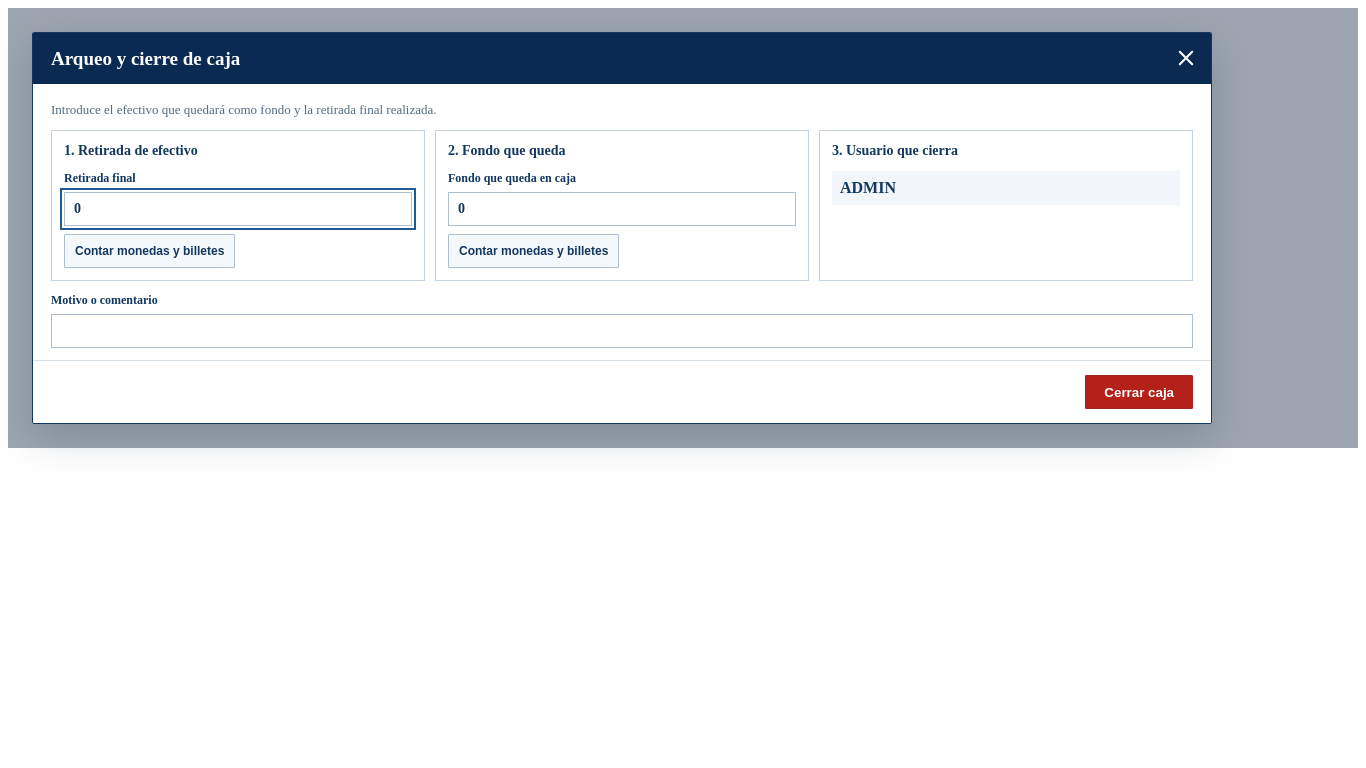
Test: cash counts connected to opening and closing › blocks positive amounts without mandatory breakdown and clears a stale count after typing
This screenshot has width=1366, height=768.
Replace the text in the field labelled "Fondo que queda en caja" with "10" at [622, 209], box [448, 192, 796, 226]
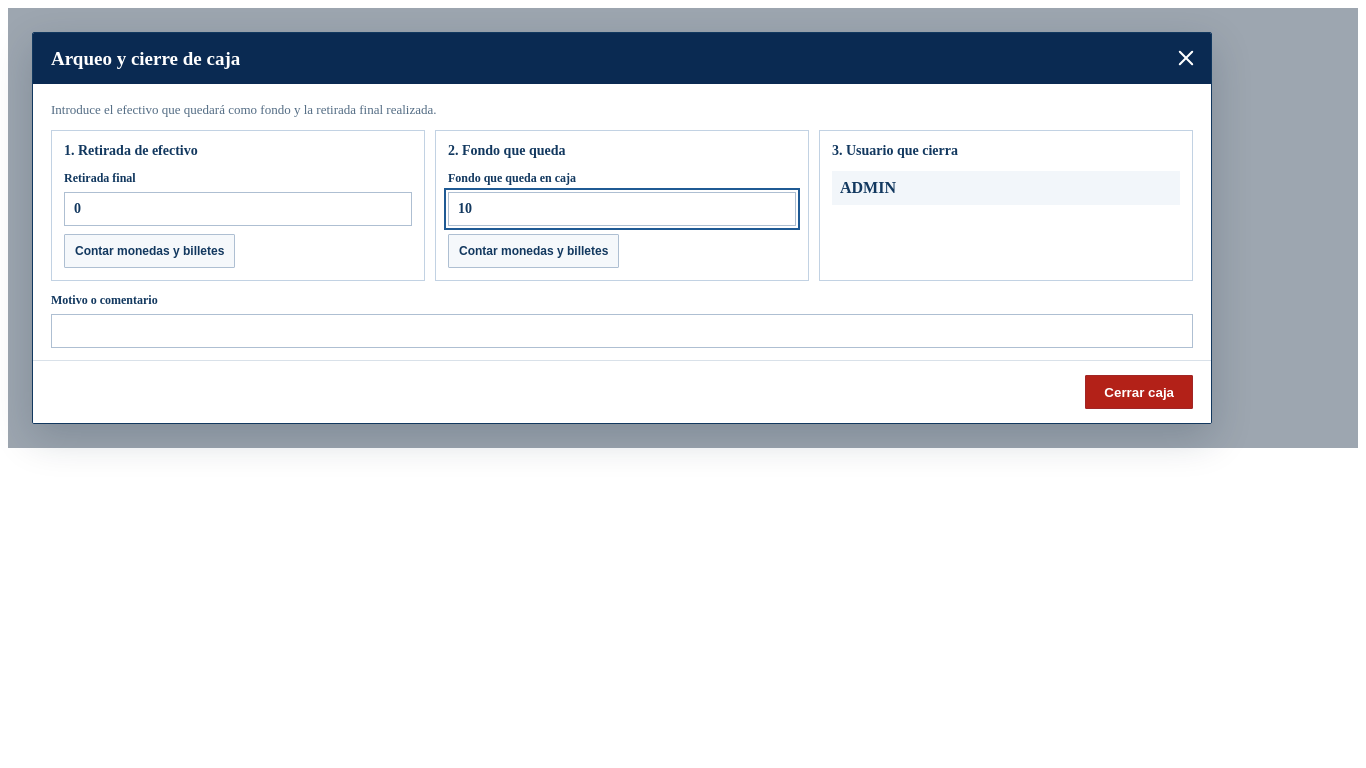
Click the button "Cerrar caja" at [1139, 392], box [1085, 375, 1193, 409]
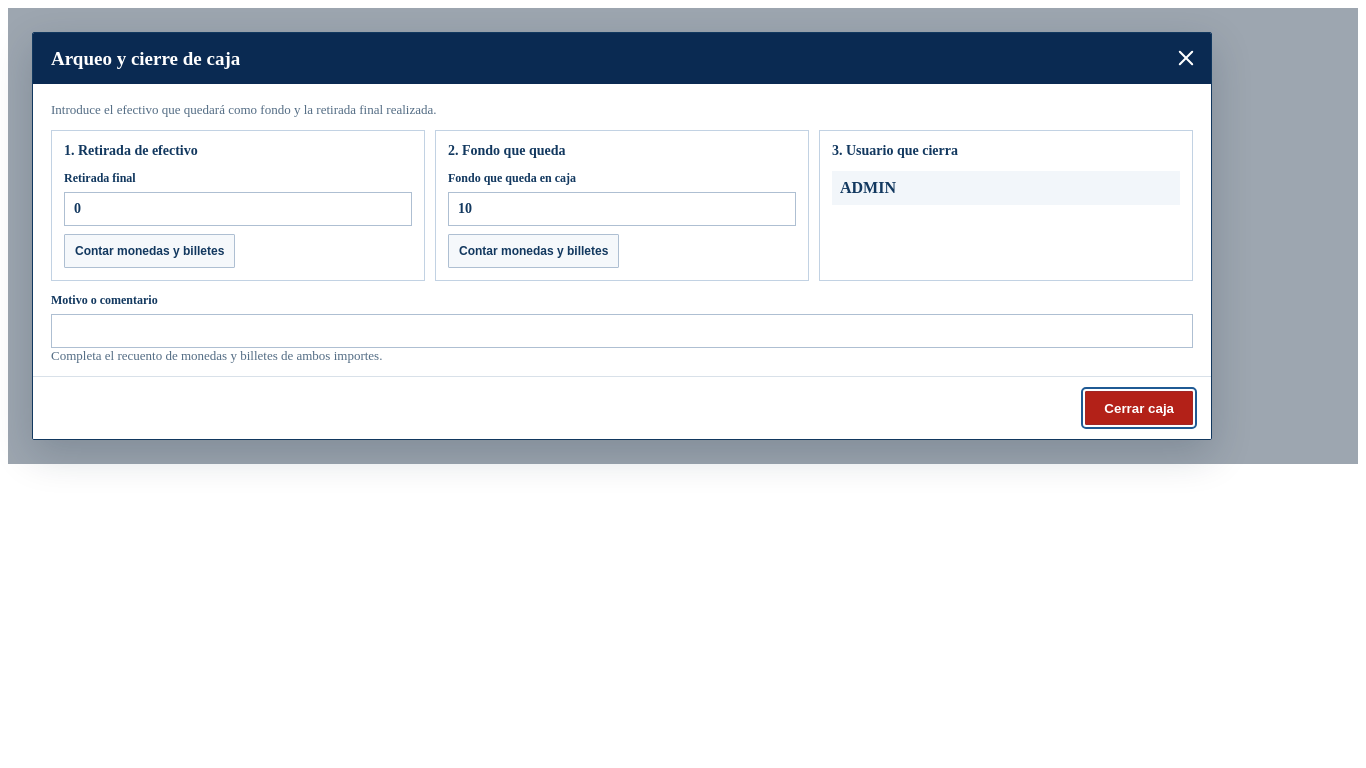
Now the message shows "Completa el recuento", box [51, 348, 382, 363]
